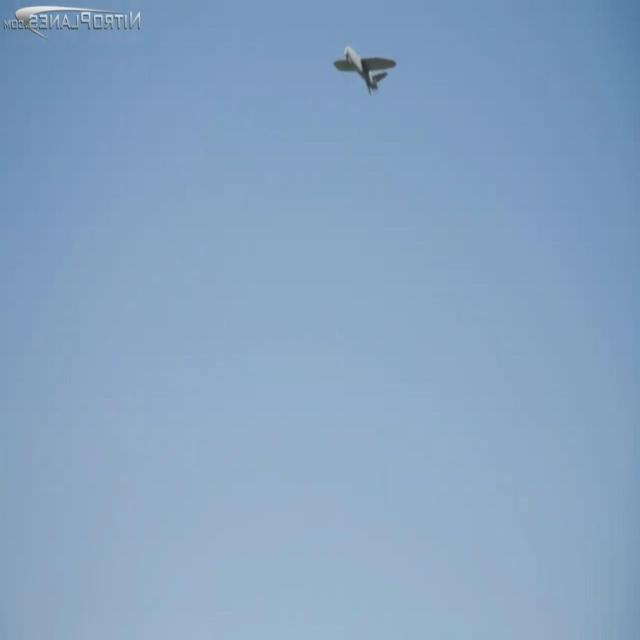iha: (357, 0, 372, 33)
